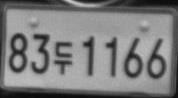1: (102, 35, 123, 77), (80, 35, 101, 76)
3: (30, 32, 50, 75)
6: (146, 38, 167, 79), (123, 37, 143, 78)
8: (7, 31, 28, 74)
두: (53, 40, 72, 75)
